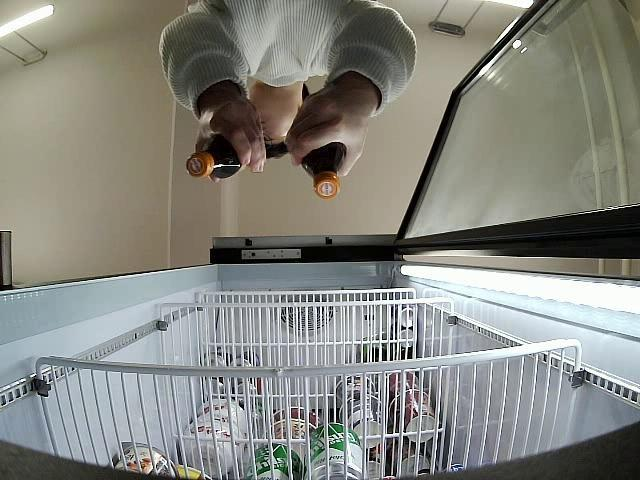17_vita500: (299, 144, 346, 198), (184, 136, 240, 180)
